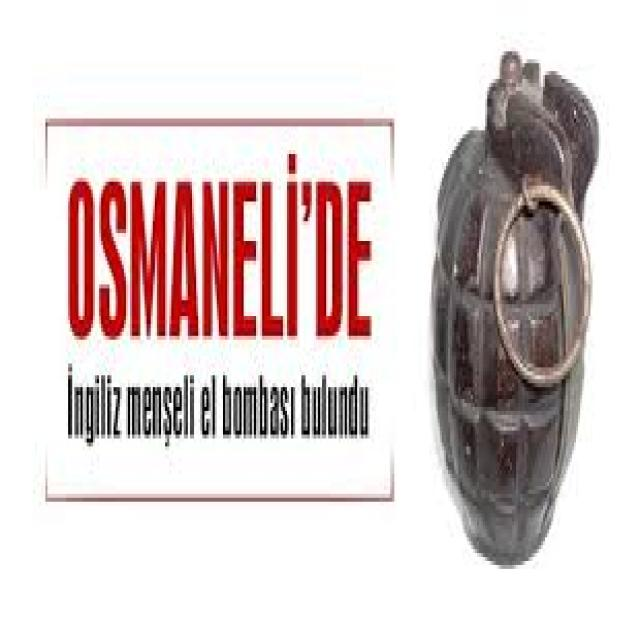grenade: (432, 44, 604, 570)
